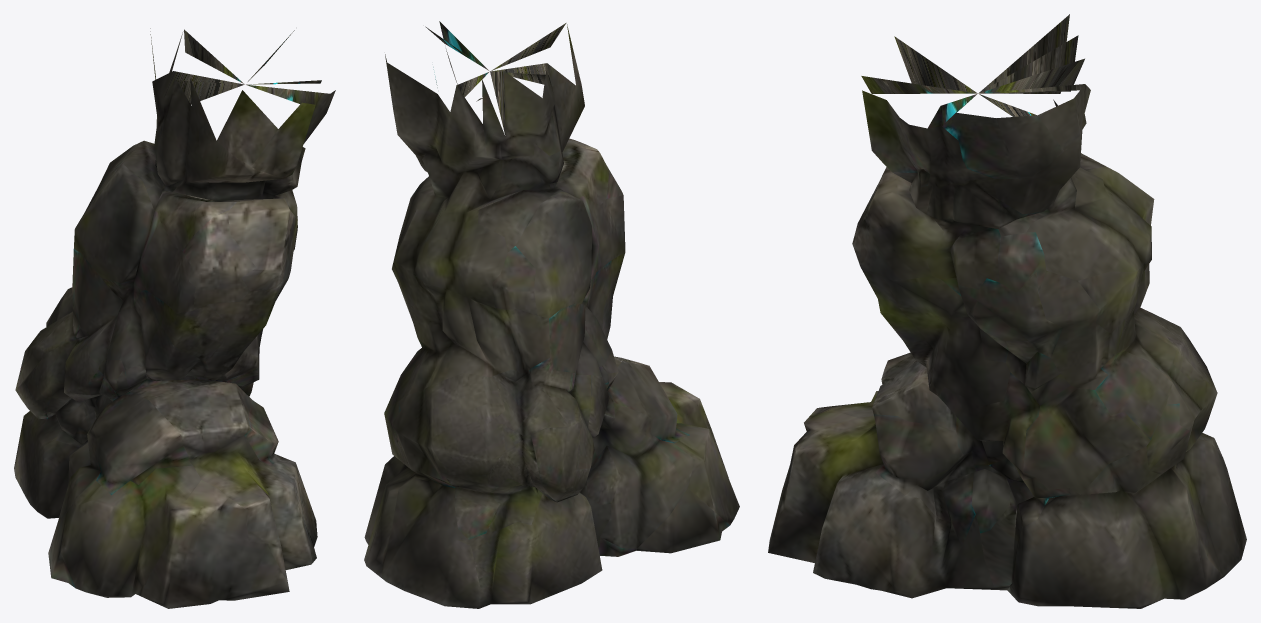
Rendered from warden_leg_negx.glb.
The picture shows the model from 3 angles, left to right: view 1: azimuth 30°, elevation 25°; view 2: azimuth 150°, elevation 25°; view 3: azimuth 270°, elevation 25°; orthographic projection. The views are drawn at different scales.
Bounding box in the file's own units: 4.89 × 7.53 × 6.09.
1 material, 1 textured.
